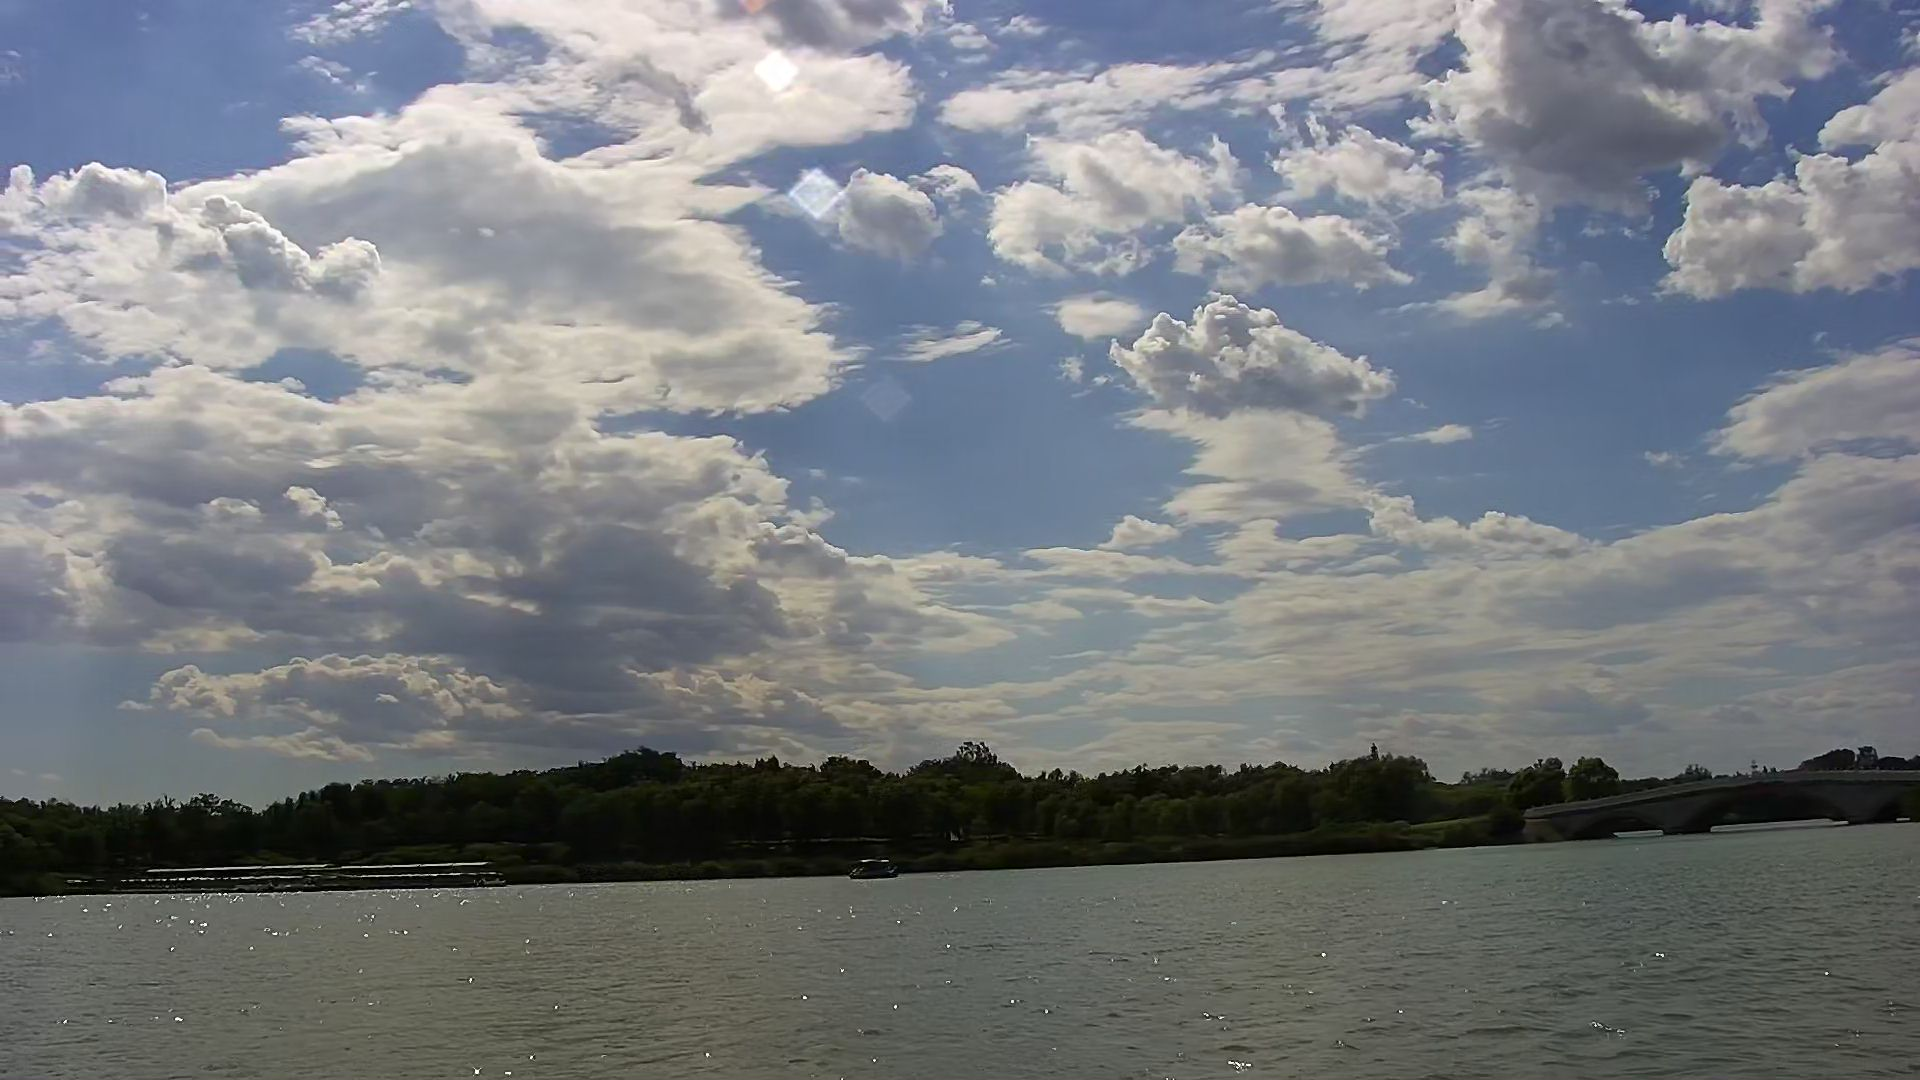boat: (849, 851, 899, 882)
bridge: (1538, 767, 1919, 831)
harbor: (138, 855, 496, 891)
